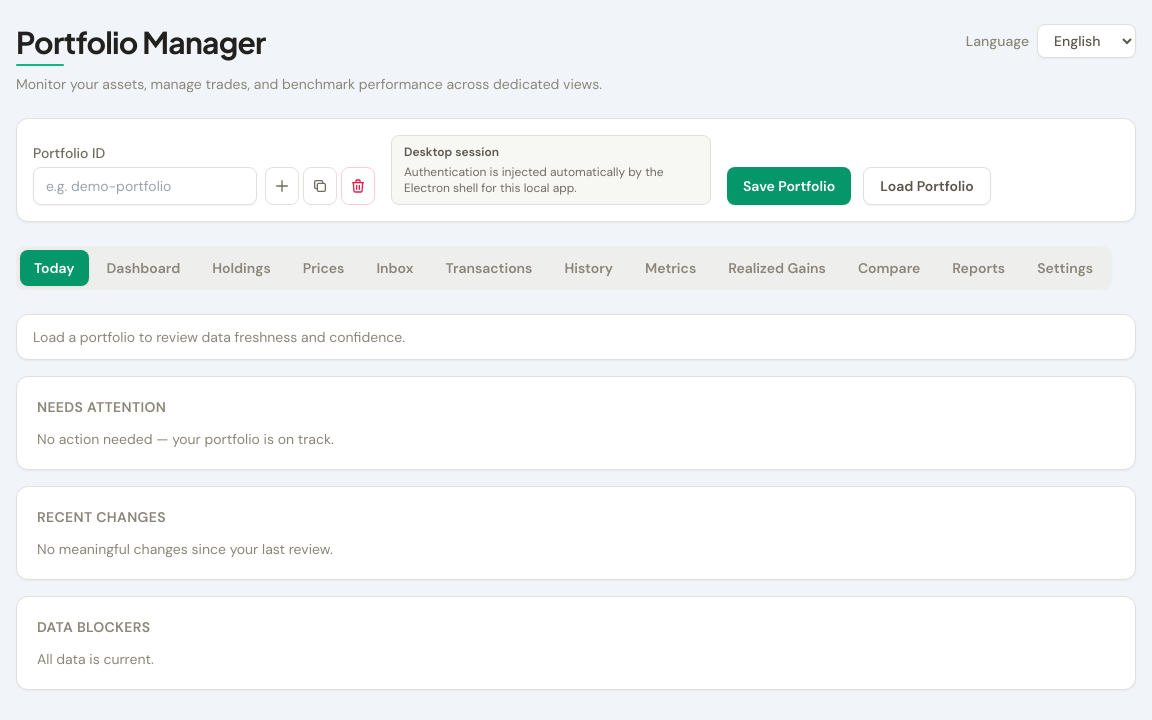
Test: PortfolioManagerApp shell › Inbox tab shows empty state when no signals
This screenshot has width=1152, height=720.
Click the tab "Inbox" at (395, 268), box [362, 250, 427, 286]
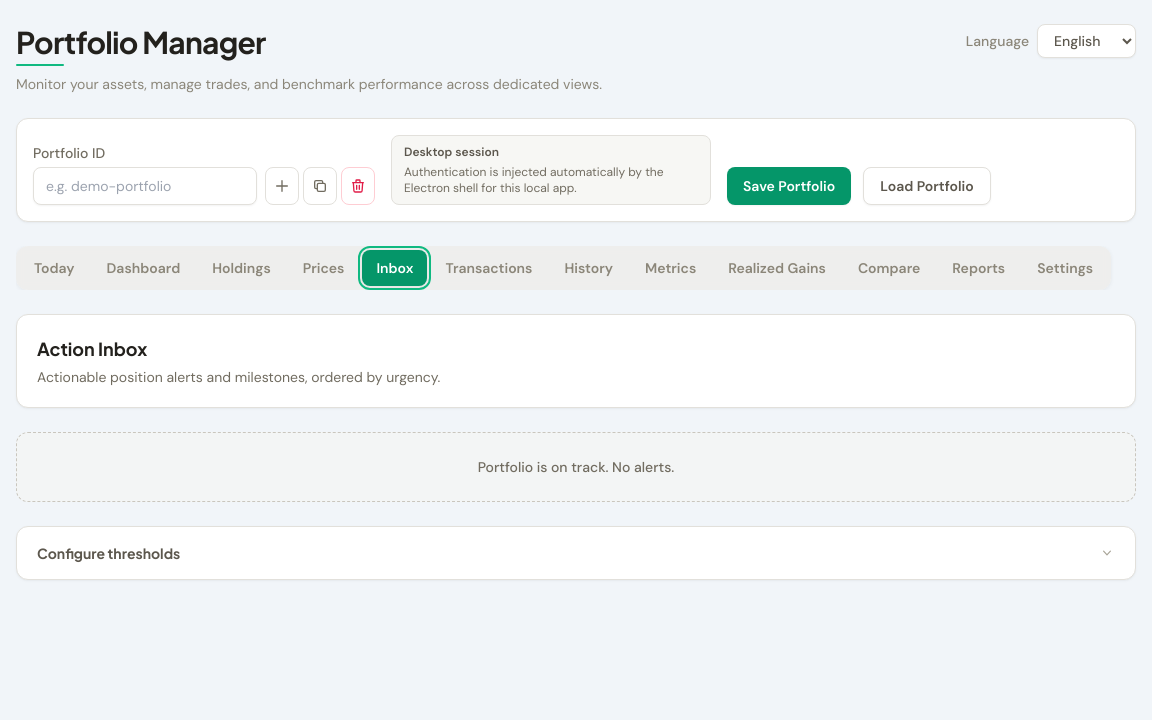
expect the text "Portfolio is on track. No alerts." is shown: met, box [478, 458, 674, 476]
